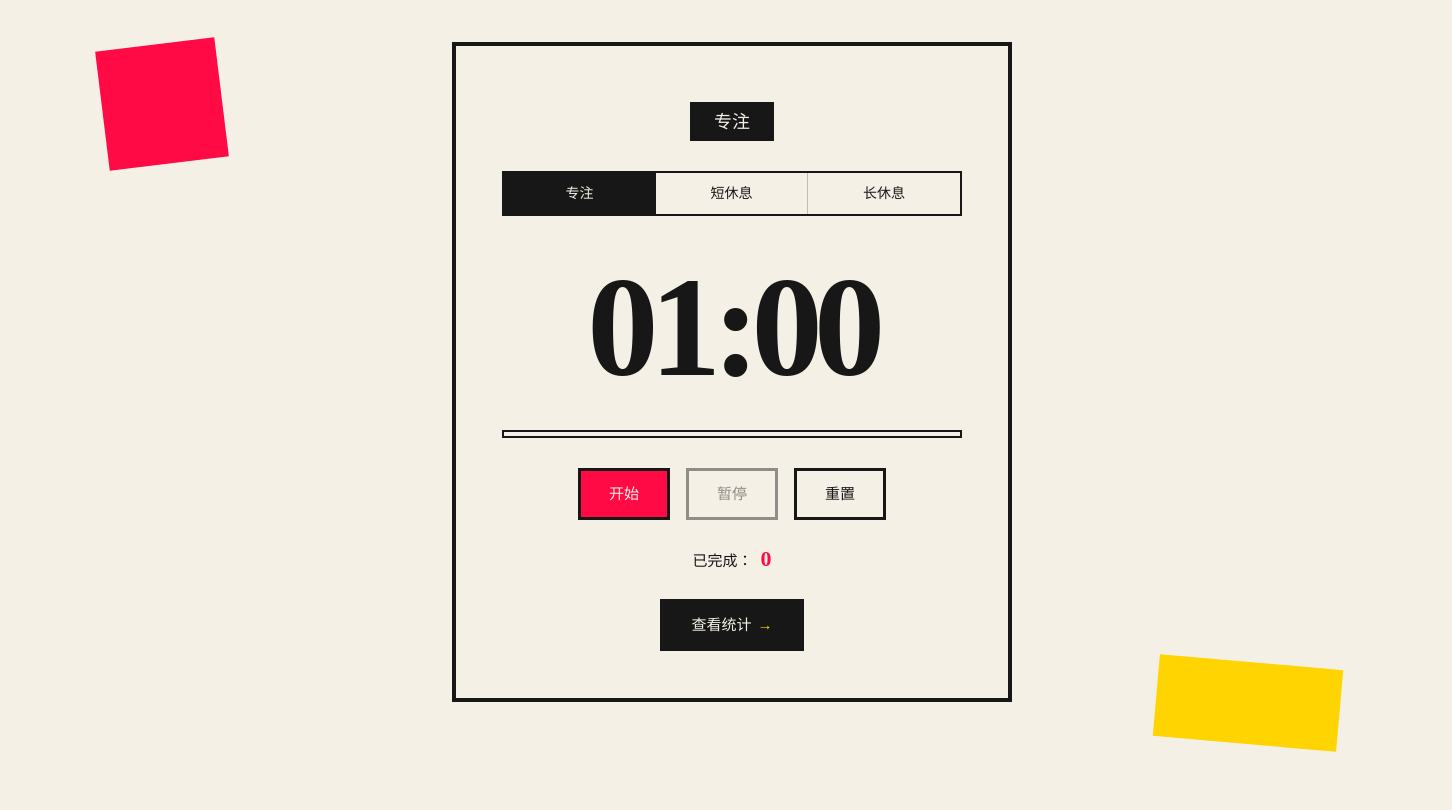
Test: does not add a completed session when persistence fails
The image size is (1452, 810).
Expected: the heading "01:00" is shown, [587, 248, 877, 406]
What coordinates should you click on to do the following:
click the button "开始"
I would click on:
 (624, 494)
Its box is [578, 468, 670, 520].
Wait 60000 ms
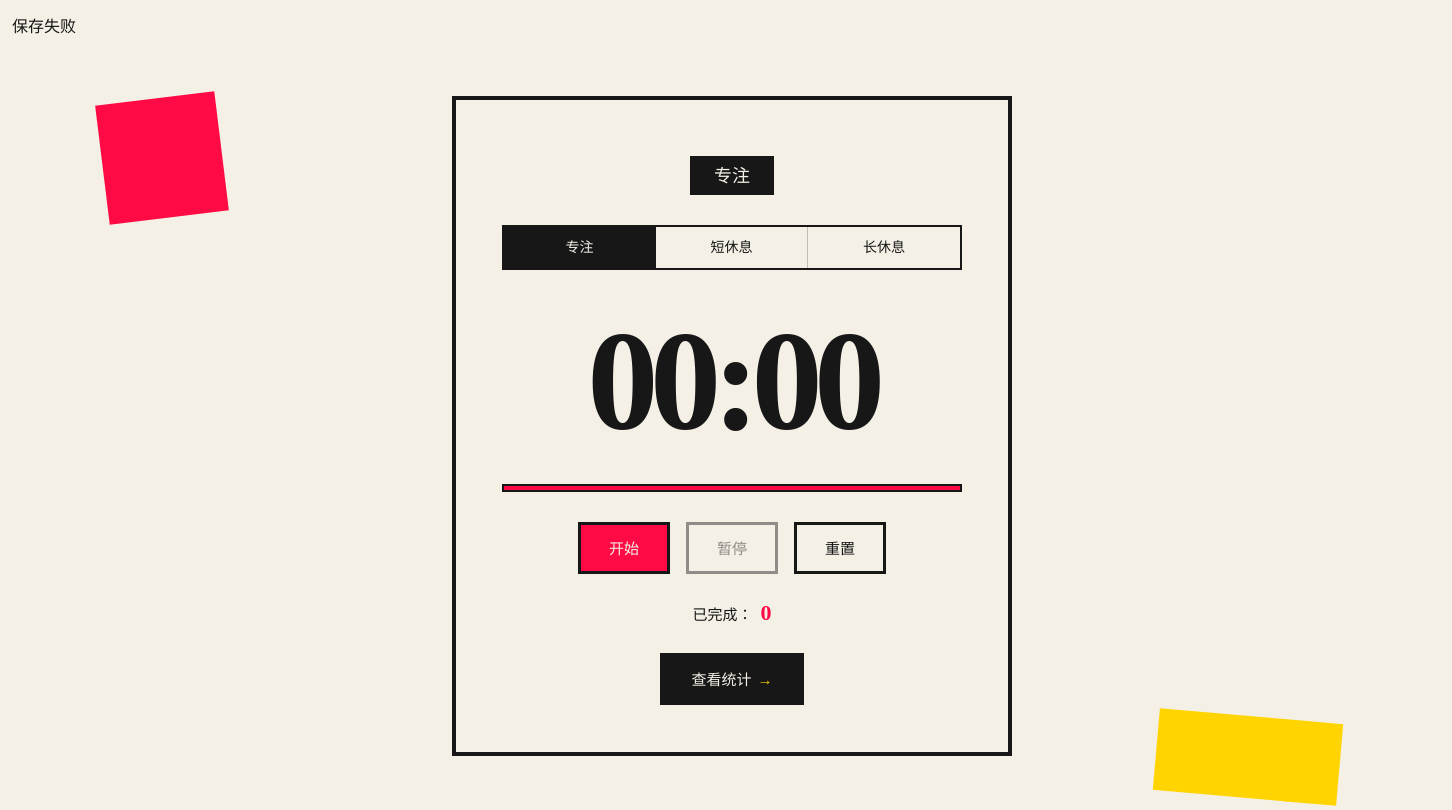
Now the text "保存失败" is shown, box [12, 18, 76, 35]
What coordinates should you click on to do the following:
click the button "查看统计 →"
I would click on:
 (732, 679)
Its box is [660, 653, 804, 705].
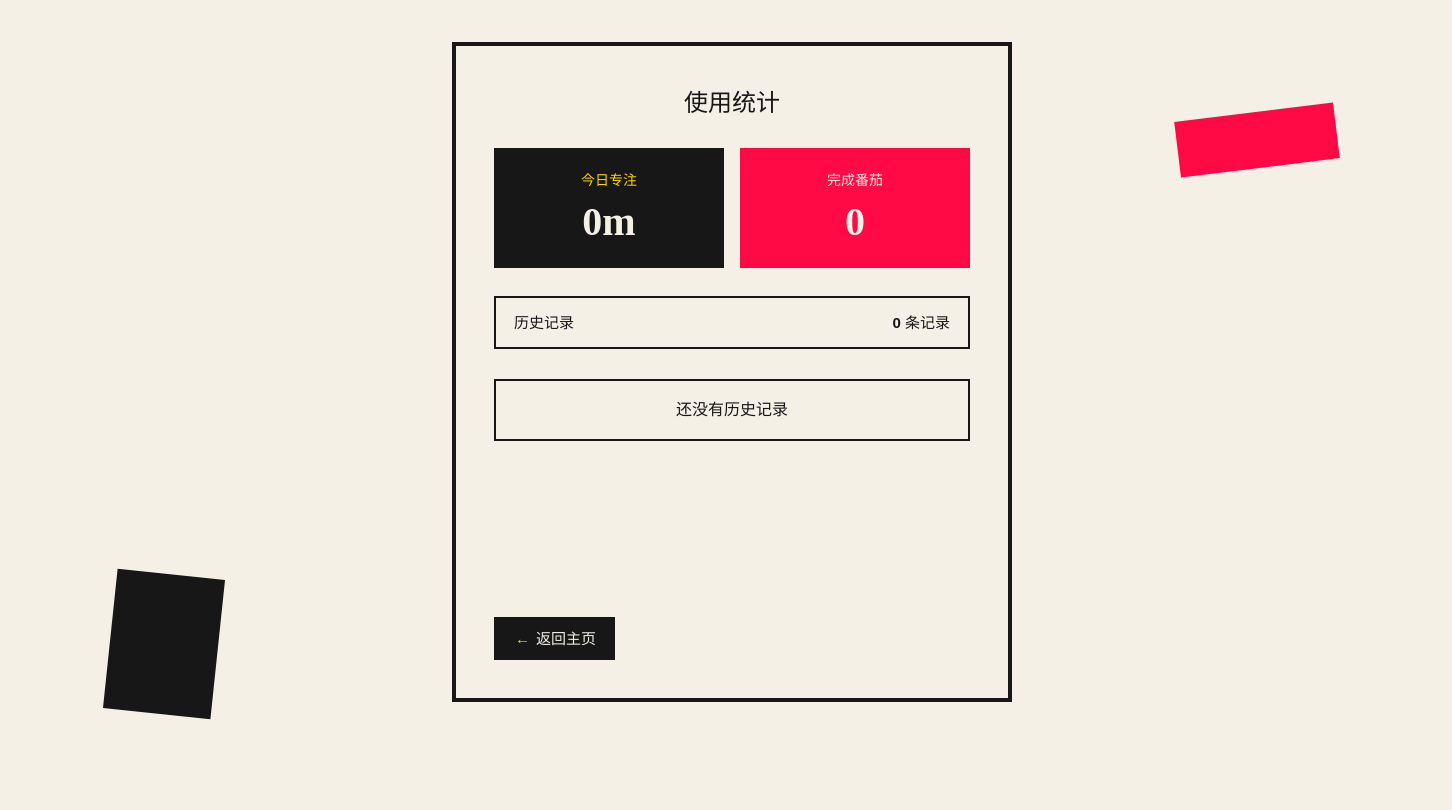
Now the text "还没有历史记录" is shown, box [494, 379, 970, 441]
